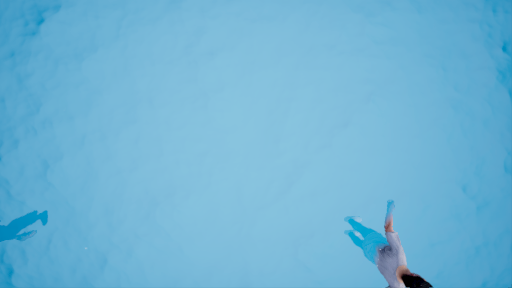person: (341, 200, 421, 280)
